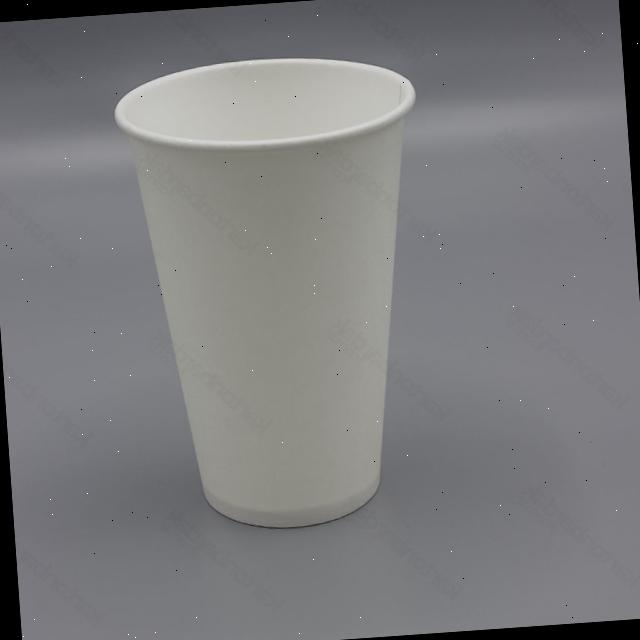trash: (123, 41, 452, 530)
